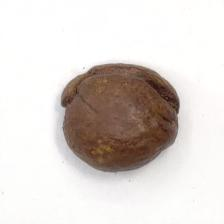NG: (61, 62, 182, 124)
